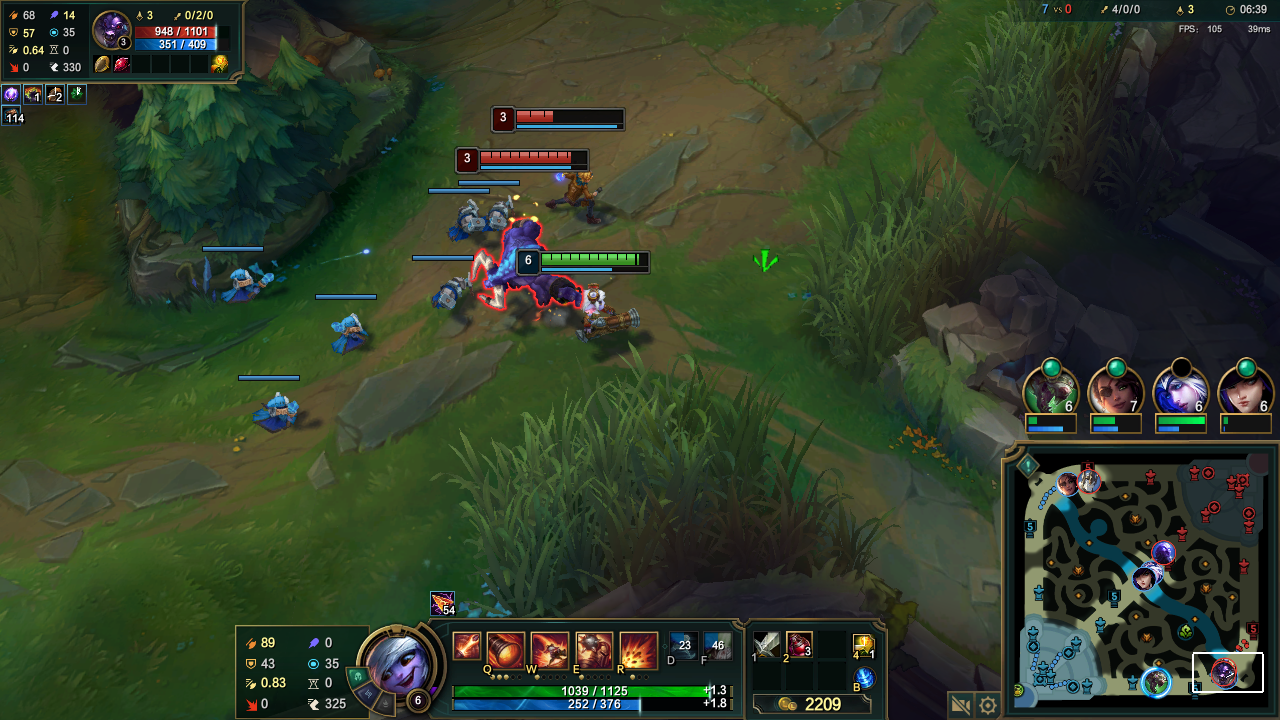DFYX: (507, 107, 621, 133), (472, 145, 594, 167)
WFXB: (423, 273, 486, 321), (247, 386, 301, 441), (212, 265, 284, 306), (320, 306, 375, 355), (475, 186, 519, 232), (436, 201, 482, 242)
